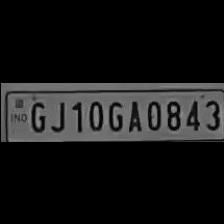0: (84, 97, 104, 131), (142, 96, 162, 130)
1: (66, 97, 84, 133)
3: (202, 96, 220, 130)
4: (183, 96, 201, 130)
8: (163, 96, 181, 130)
A: (124, 96, 142, 132)
G: (26, 96, 46, 132), (104, 96, 124, 132)
J: (47, 96, 66, 132)
